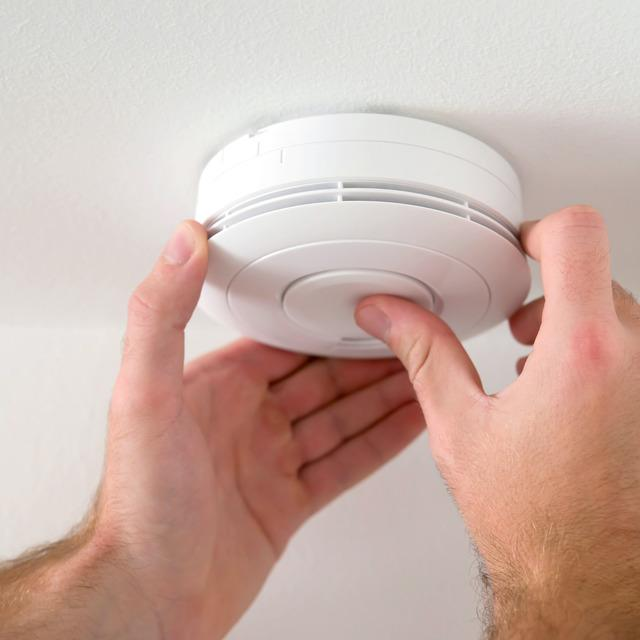Smoke-Detector: (190, 119, 526, 363)
